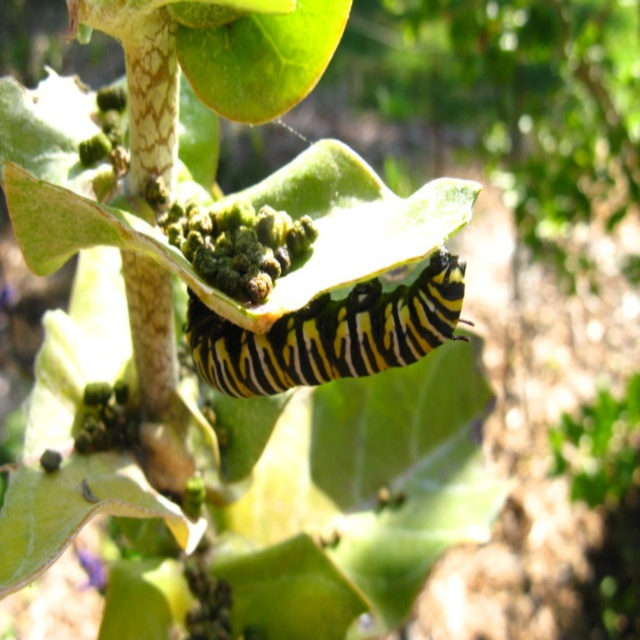Caterpillar: (183, 247, 474, 400)
